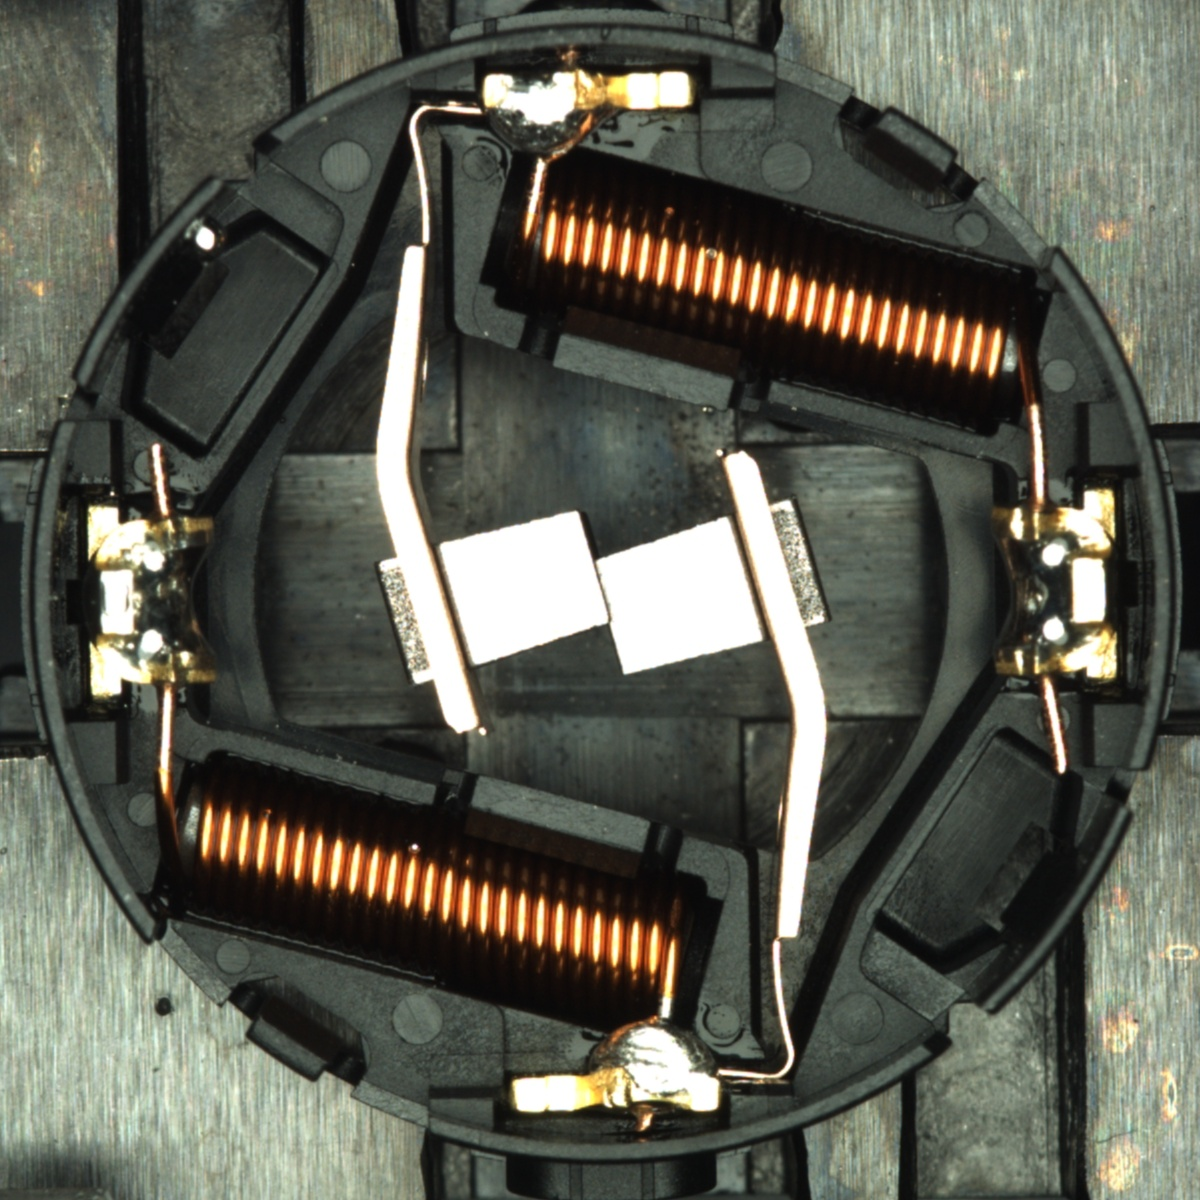1: (712, 929, 942, 1153), (254, 31, 482, 255)
2: (712, 31, 942, 255), (254, 929, 482, 1153)
3: (24, 255, 254, 480), (942, 704, 1170, 929)
4: (254, 255, 482, 480), (712, 704, 942, 929)
5: (482, 143, 712, 368), (482, 816, 712, 1041)
6: (712, 255, 942, 480), (254, 704, 482, 929)
7: (942, 255, 1170, 480), (24, 704, 254, 929)
cacbon: (397, 498, 798, 686)
chau_dien: (81, 499, 222, 701), (984, 489, 1123, 686)
hat_chi: (184, 216, 227, 262)
tay_choi: (509, 1014, 723, 1114), (481, 68, 697, 167)
thanh_de: (956, 789, 1141, 1030)
